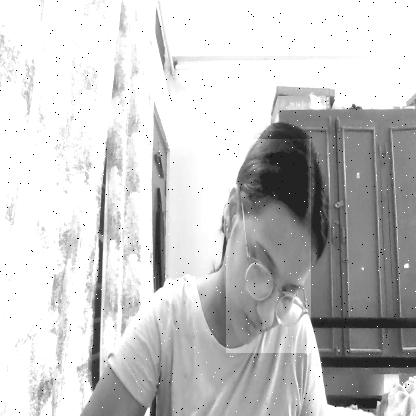Distracted: (226, 139, 311, 353)
